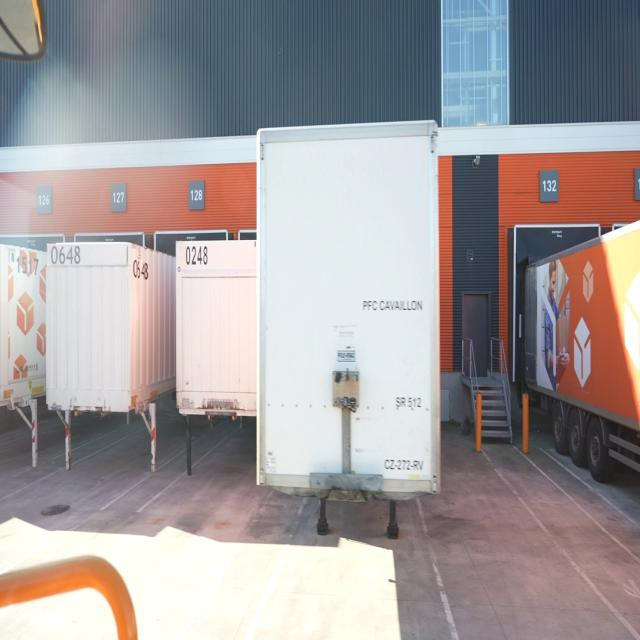Code: (47, 241, 84, 270), (13, 247, 43, 280), (182, 242, 210, 268)
